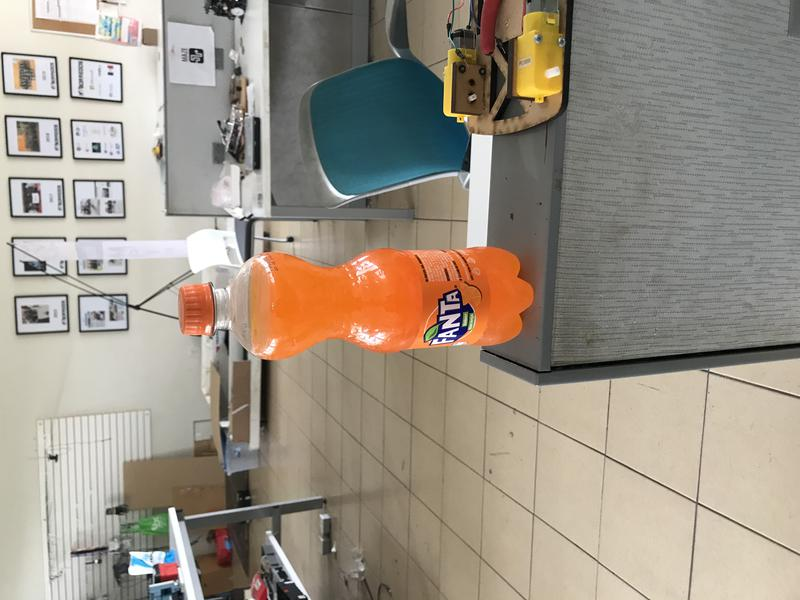fanta: (179, 246, 535, 362)
